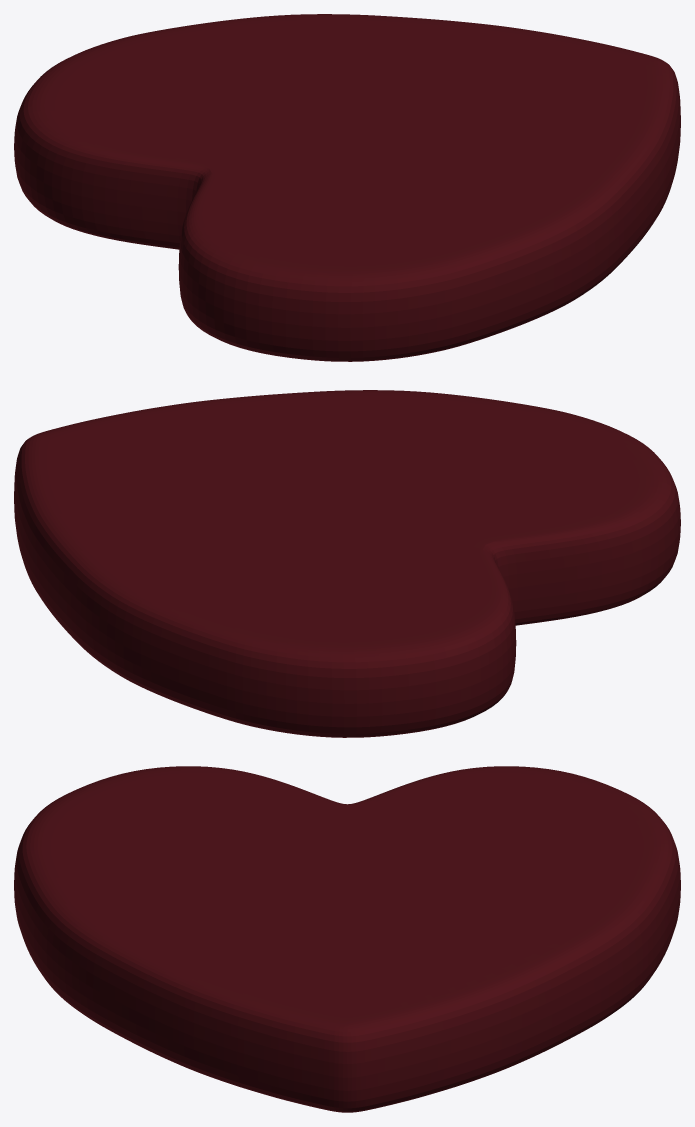
The model's file is CakeLayerCherry.glb.
3 views of the same model, one above another, from view 1: azimuth 30°, elevation 25°; view 2: azimuth 150°, elevation 25°; view 3: azimuth 270°, elevation 25° (orthographic).
Parts seen in each view (by area): view 1: Cylinder.005; view 2: Cylinder.005; view 3: Cylinder.005.
Part boxes in pixels (box(x1,y1,x2,y2)): Cylinder.005: box(14, 14, 680, 361); Cylinder.005: box(14, 390, 680, 737); Cylinder.005: box(14, 766, 680, 1112).
Size of the model in its own units: 1.62 by 0.2409 by 1.66.
